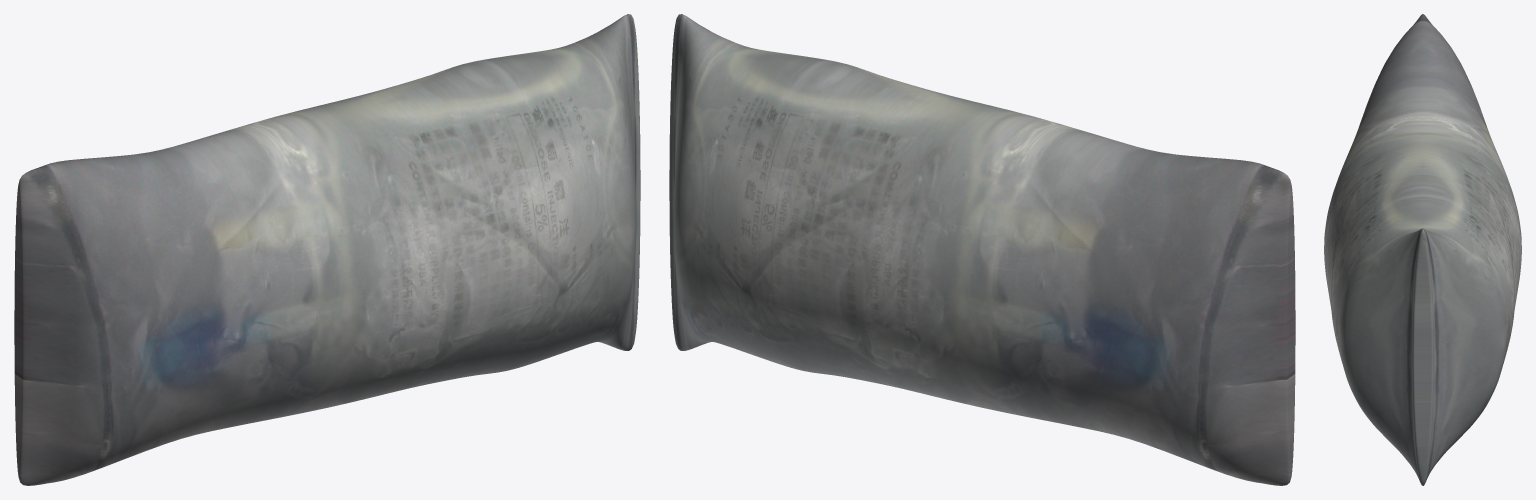
Rendered from 20140311GOPHDRGPT00806.fbx.
3 views of the same model, side by side, from view 1: azimuth 30°, elevation 25°; view 2: azimuth 150°, elevation 25°; view 3: azimuth 270°, elevation 25° (orthographic). The views are drawn at different scales.
Visible parts, largest first — view 1: Cylinder; view 2: Cylinder; view 3: Cylinder.
Part boxes in pixels (box(x1,y1,x2,y2)): Cylinder: box(14, 14, 640, 485); Cylinder: box(669, 14, 1295, 485); Cylinder: box(1324, 14, 1521, 485).
Bounding box in the file's own units: 957 × 500 × 349.
1 material, 1 textured.
